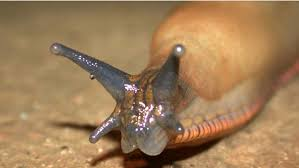slug: (51, 1, 299, 151)
